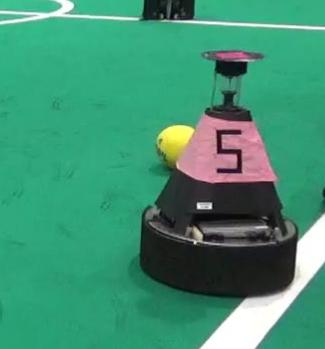robot: (140, 40, 300, 299)
